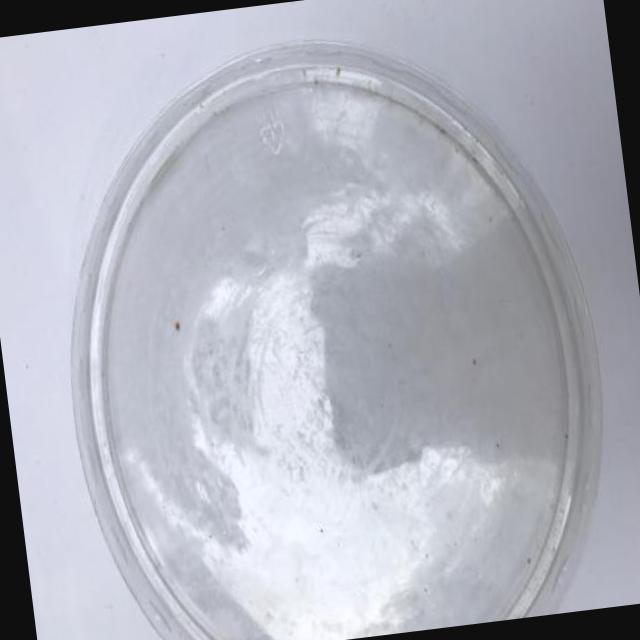Trash: (24, 0, 629, 640)
